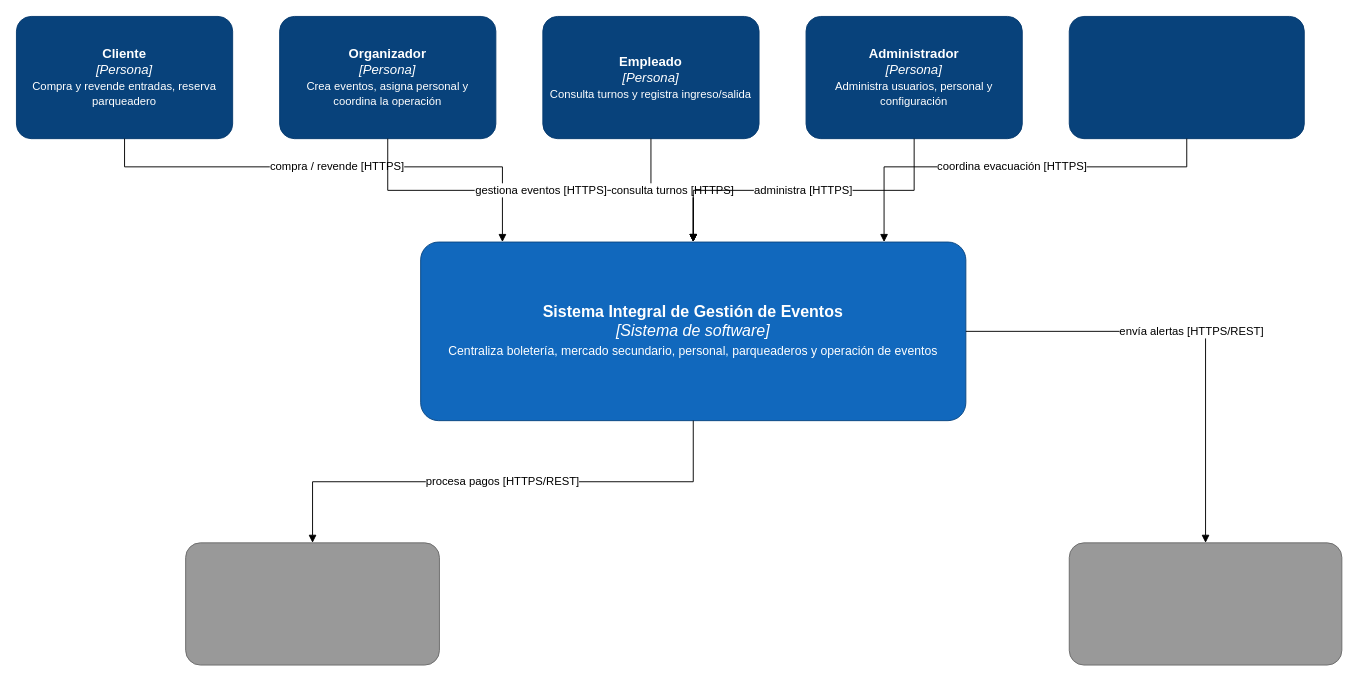
This 1358x682 diagram has some shape labels left out. Here are the shapes that lost their labels. From the top down, the centre of each, then its label:
(x=1186, y=77): Supervisor de Emergencia [Persona] Activa y coordina el protocolo de evacuación
(x=312, y=603): Pasarela de Pagos [Sistema externo] Procesa cobros, reembolsos y liquidaciones
(x=1205, y=603): Proveedor de Notificaciones [Sistema externo] Envía push, correo y SMS
